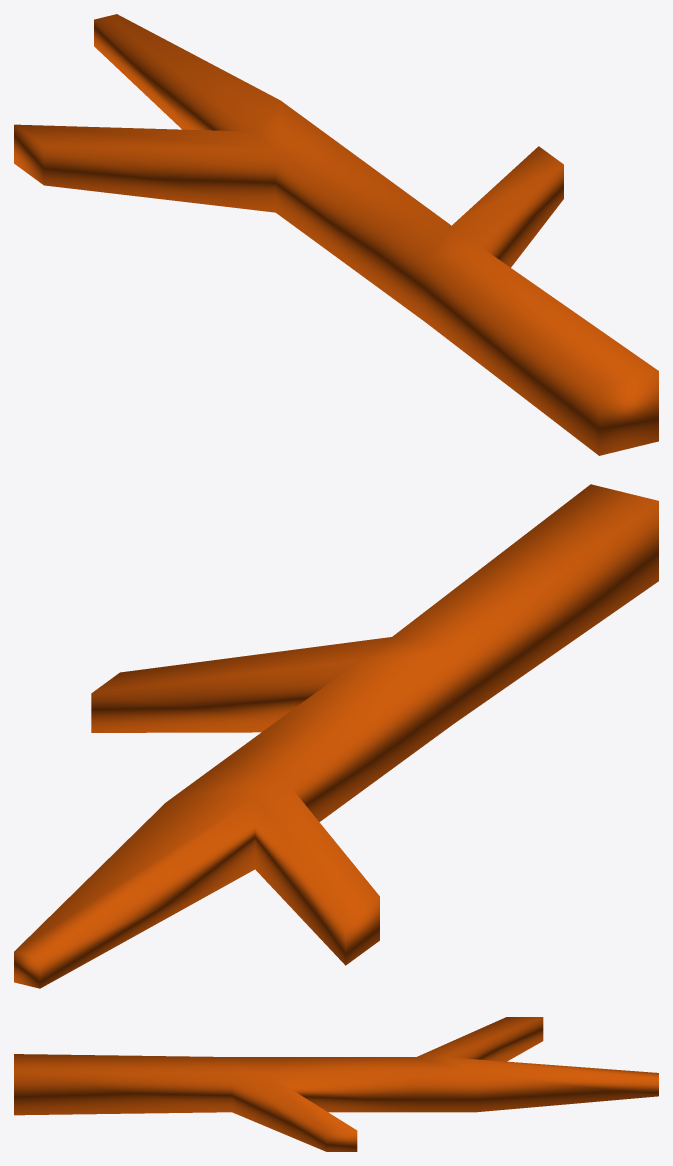
Rendered from Branch.fbx.
The picture shows the model from 3 angles, top to bottom: view 1: azimuth 30°, elevation 25°; view 2: azimuth 150°, elevation 25°; view 3: azimuth 270°, elevation 25°; orthographic projection. The views are drawn at different scales.
Visible parts, largest first — view 1: Cube; view 2: Cube; view 3: Cube.
Boxes of the visible parts, left/top/right/bottom form: Cube: left=14, top=14, right=658, bottom=455; Cube: left=14, top=484, right=658, bottom=988; Cube: left=14, top=1017, right=658, bottom=1151.
Bounding box in the file's own units: 58.35 × 10.49 × 142.
